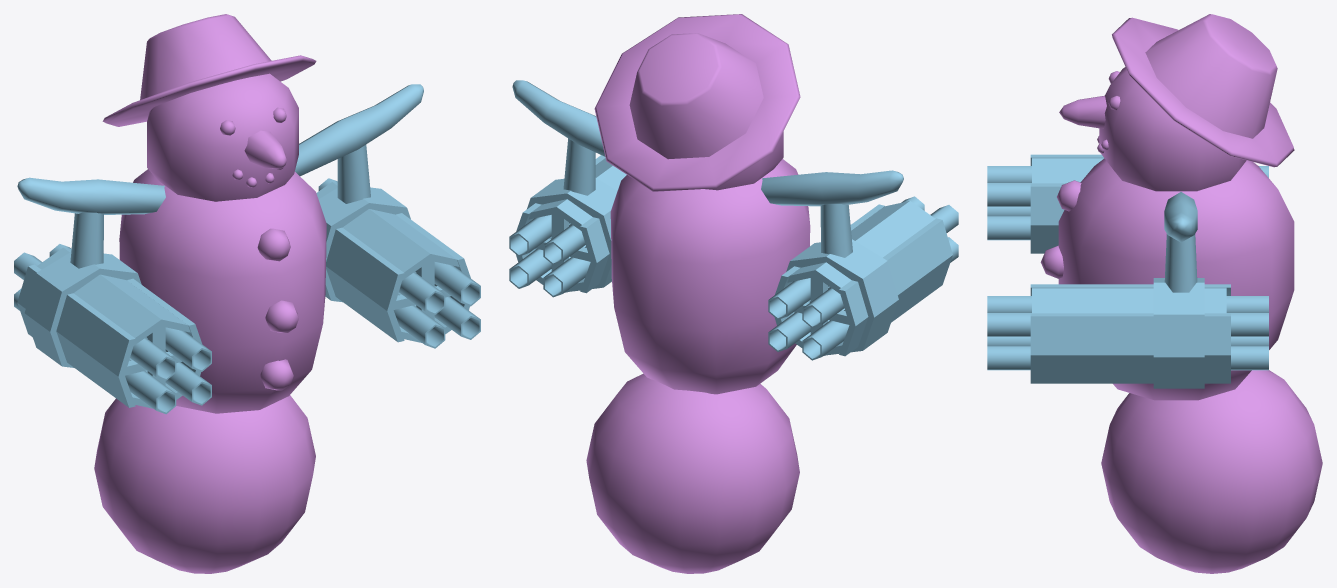
File: snowman parts.FBX
The picture shows the model from 3 angles, left to right: view 1: azimuth 30°, elevation 25°; view 2: azimuth 150°, elevation 25°; view 3: azimuth 270°, elevation 25°; orthographic projection. The views are drawn at different scales.
Parts seen in each view (by area): view 1: Sphere002, Sphere003, Sphere001, Cylinder005, Cylinder009, Cylinder001, Cylinder007, Cylinder002, Cylinder008; view 2: Sphere002, Sphere003, Sphere001, Cylinder005, Cylinder009, Cylinder001, Cylinder007, Cylinder002, Cylinder008; view 3: Sphere003, Sphere001, Cylinder009, Sphere002, Cylinder005, Cylinder008, Cylinder007.
Boxes of the visible parts, x1=… form: Sphere002: x1=119, y1=169, x2=326, y2=413; Sphere003: x1=94, y1=395, x2=315, y2=573; Sphere001: x1=102, y1=14, x2=316, y2=201; Cylinder005: x1=14, y1=244, x2=211, y2=414; Cylinder009: x1=316, y1=178, x2=480, y2=348; Cylinder001: x1=17, y1=177, x2=165, y2=214; Cylinder007: x1=295, y1=84, x2=423, y2=176; Cylinder002: x1=70, y1=212, x2=103, y2=268; Cylinder008: x1=337, y1=144, x2=370, y2=203; Sphere002: x1=610, y1=159, x2=810, y2=394; Sphere003: x1=586, y1=373, x2=799, y2=573; Sphere001: x1=594, y1=14, x2=800, y2=191; Cylinder005: x1=768, y1=196, x2=958, y2=360; Cylinder009: x1=509, y1=155, x2=626, y2=297; Cylinder001: x1=761, y1=170, x2=903, y2=206; Cylinder007: x1=512, y1=80, x2=605, y2=156; Cylinder002: x1=820, y1=204, x2=852, y2=257; Cylinder008: x1=563, y1=138, x2=595, y2=195; Sphere003: x1=1101, y1=370, x2=1322, y2=573; Sphere001: x1=1059, y1=14, x2=1294, y2=191; Cylinder009: x1=987, y1=278, x2=1268, y2=388; Sphere002: x1=1040, y1=158, x2=1294, y2=400; Cylinder005: x1=987, y1=154, x2=1268, y2=253; Cylinder008: x1=1164, y1=234, x2=1197, y2=292; Cylinder007: x1=1164, y1=192, x2=1197, y2=242.
Size of the model in its own units: 729 by 529 by 944.
